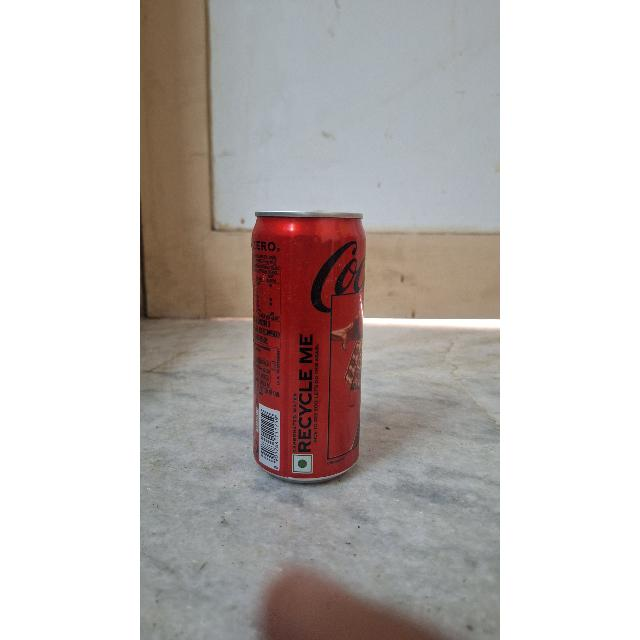Coca Cola Zero: (242, 206, 372, 486)
